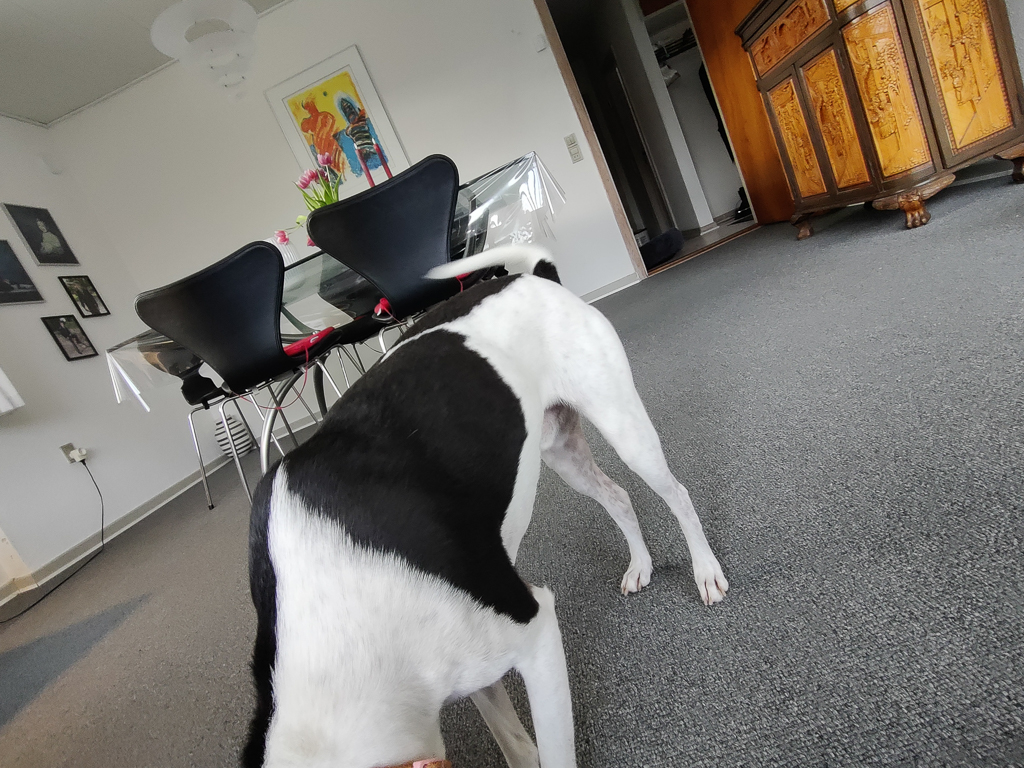Dog: (214, 235, 754, 768)
